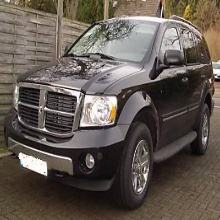no damage: (5, 16, 216, 211)
